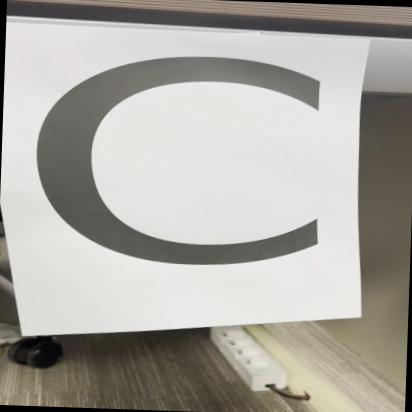seat: (11, 12, 378, 332)
